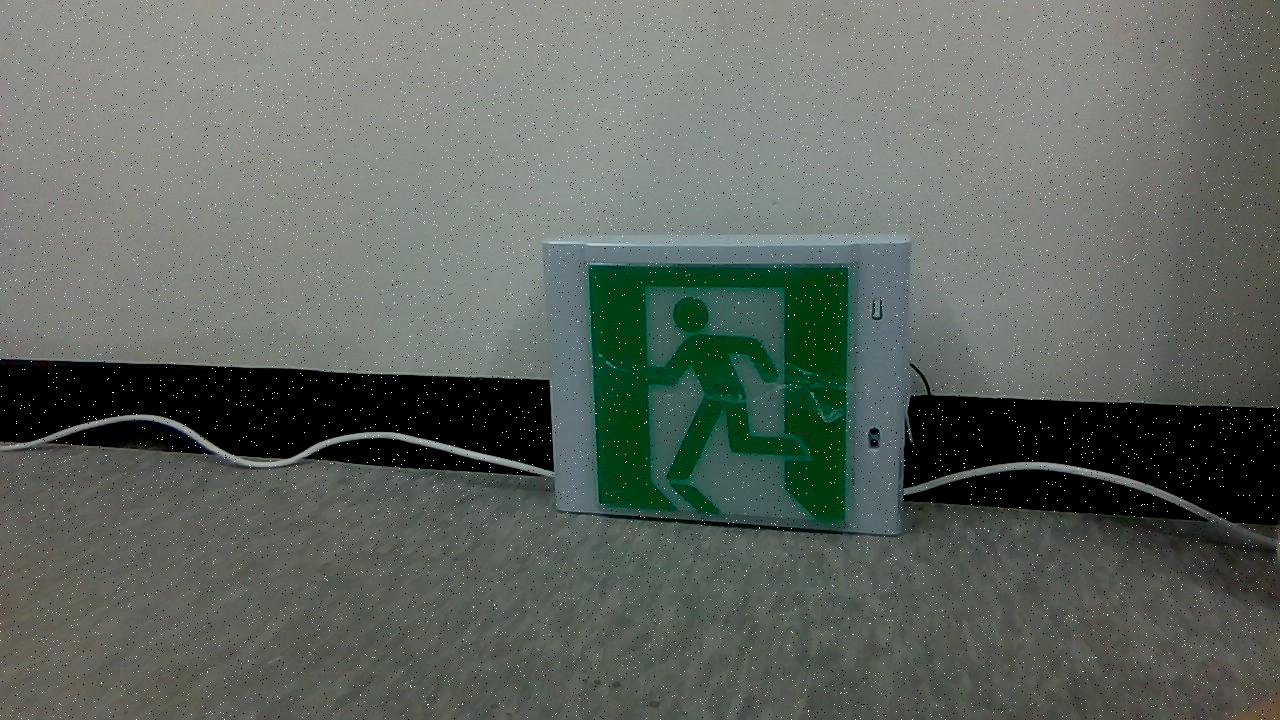emergency_exit: (542, 236, 911, 537)
